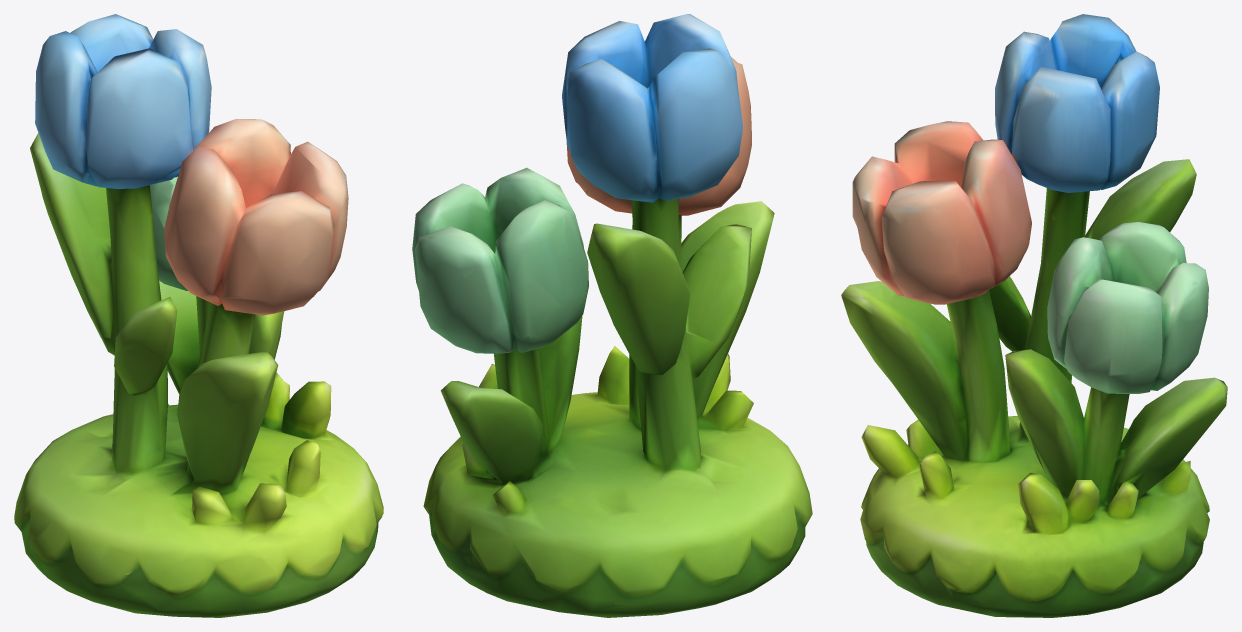
File: Kit_M_FlowersB_raw.glb
The picture shows the model from 3 angles, left to right: view 1: azimuth 30°, elevation 25°; view 2: azimuth 150°, elevation 25°; view 3: azimuth 270°, elevation 25°; orthographic projection. The views are drawn at different scales.
Parts seen in each view (by area): view 1: tripo_node_6b56c3a7-e3e7-4db6-a09c-39649ee74ea9; view 2: tripo_node_6b56c3a7-e3e7-4db6-a09c-39649ee74ea9; view 3: tripo_node_6b56c3a7-e3e7-4db6-a09c-39649ee74ea9.
Boxes of the visible parts, <box> form: tripo_node_6b56c3a7-e3e7-4db6-a09c-39649ee74ea9: <box>14,14,383,617</box>; tripo_node_6b56c3a7-e3e7-4db6-a09c-39649ee74ea9: <box>412,14,812,617</box>; tripo_node_6b56c3a7-e3e7-4db6-a09c-39649ee74ea9: <box>841,14,1227,617</box>.
Bounding box in the file's own units: 0.6524 × 1 × 0.7175.
1 material, 1 textured.
